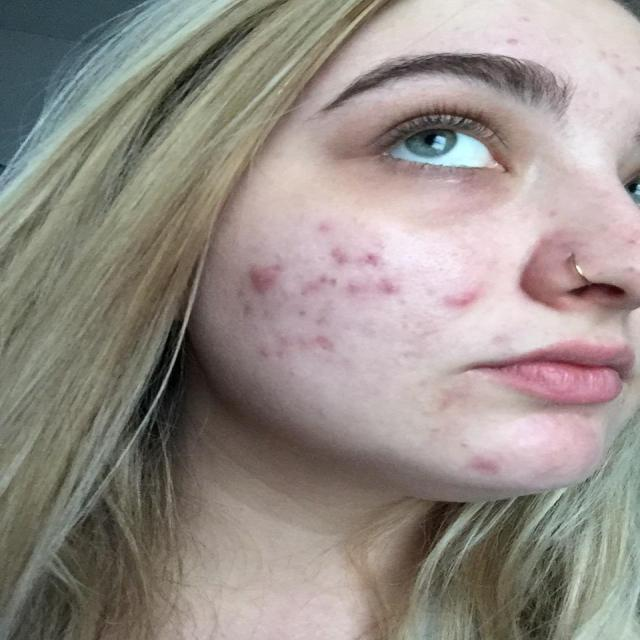Acne: (238, 197, 472, 371)
